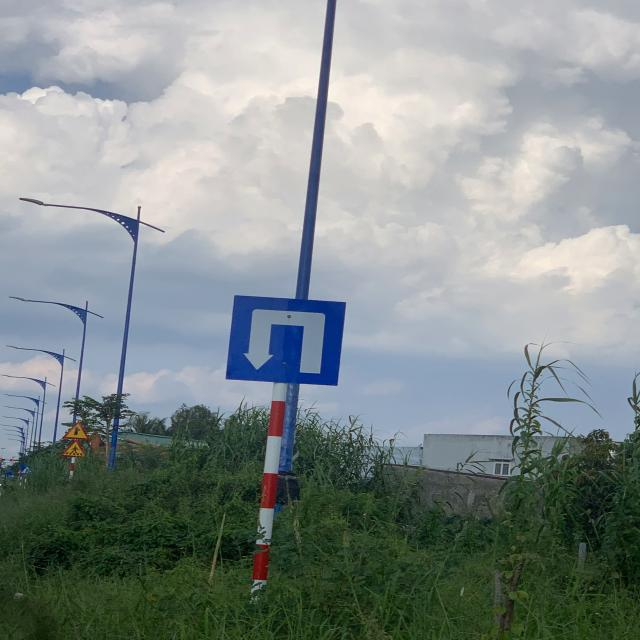Den_Giao_Thong: (226, 294, 347, 386)
